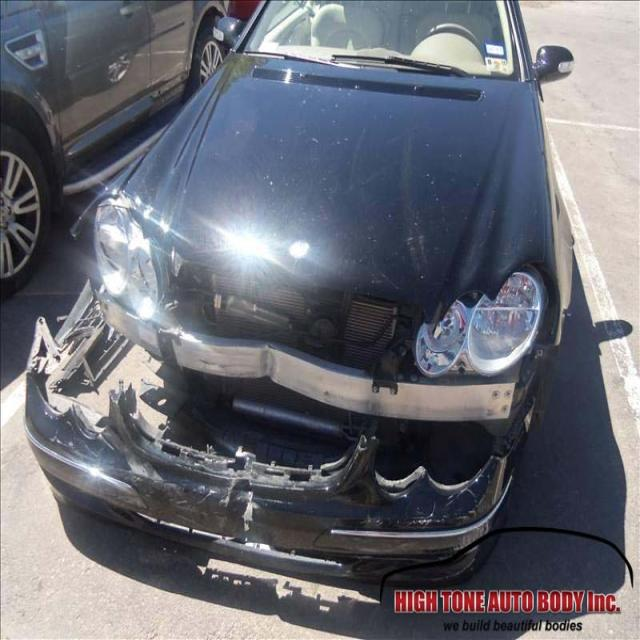crush: (25, 190, 558, 589)
